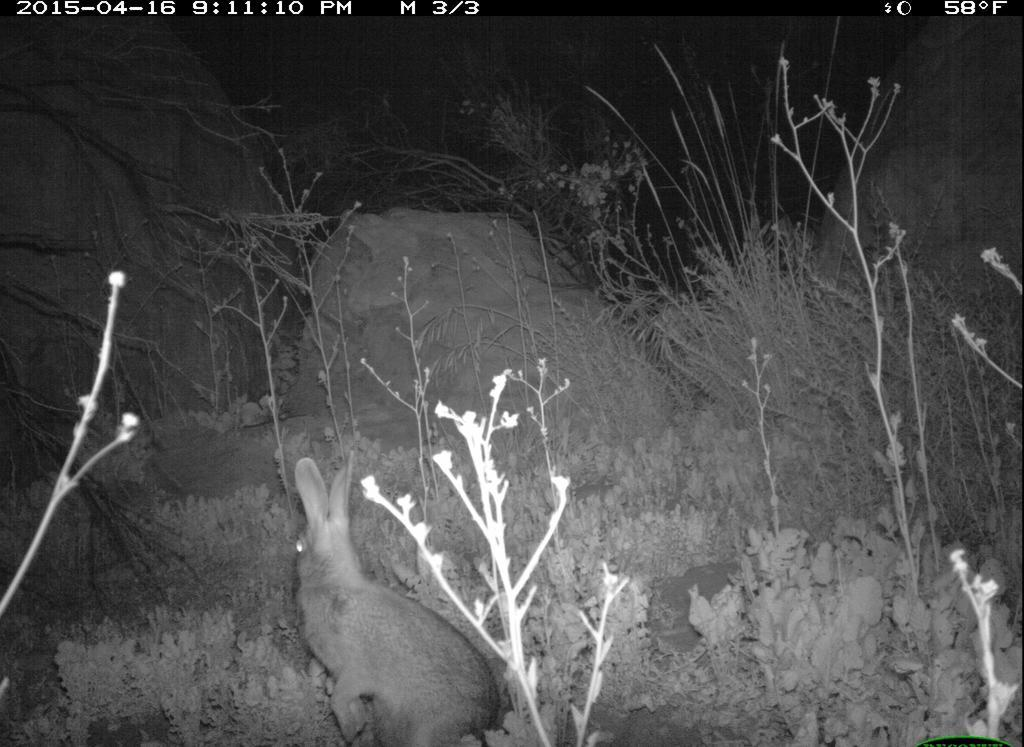rabbit: (290, 452, 509, 747)
